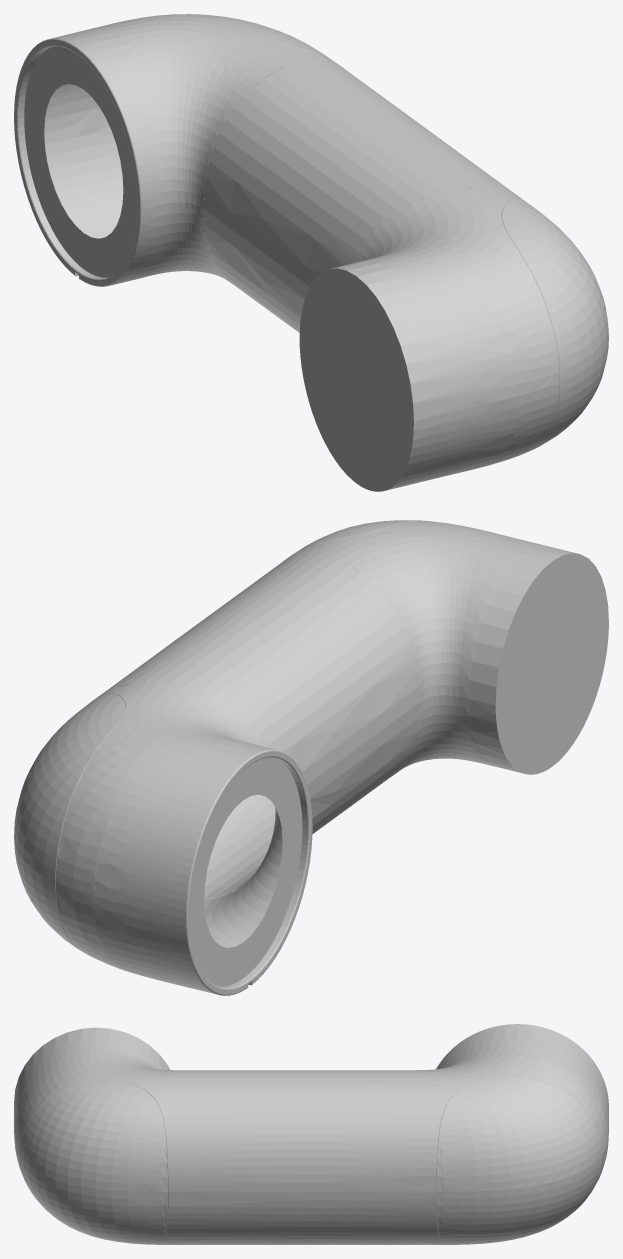
File: joint3.obj
The picture shows the model from 3 angles, top to bottom: view 1: azimuth 30°, elevation 25°; view 2: azimuth 150°, elevation 25°; view 3: azimuth 270°, elevation 25°; orthographic projection. The views are drawn at different scales.
Parts seen in each view (by area): view 1: Link3-mesh; view 2: Link3-mesh; view 3: Link3-mesh.
Part boxes in pixels (<box>): Link3-mesh: <box>14,14,608,491</box>; Link3-mesh: <box>14,520,608,995</box>; Link3-mesh: <box>14,1024,608,1244</box>.
Size of the model in its own units: 0.0554 by 0.048 by 0.156.
Materials: 1 (1 with a texture image).
